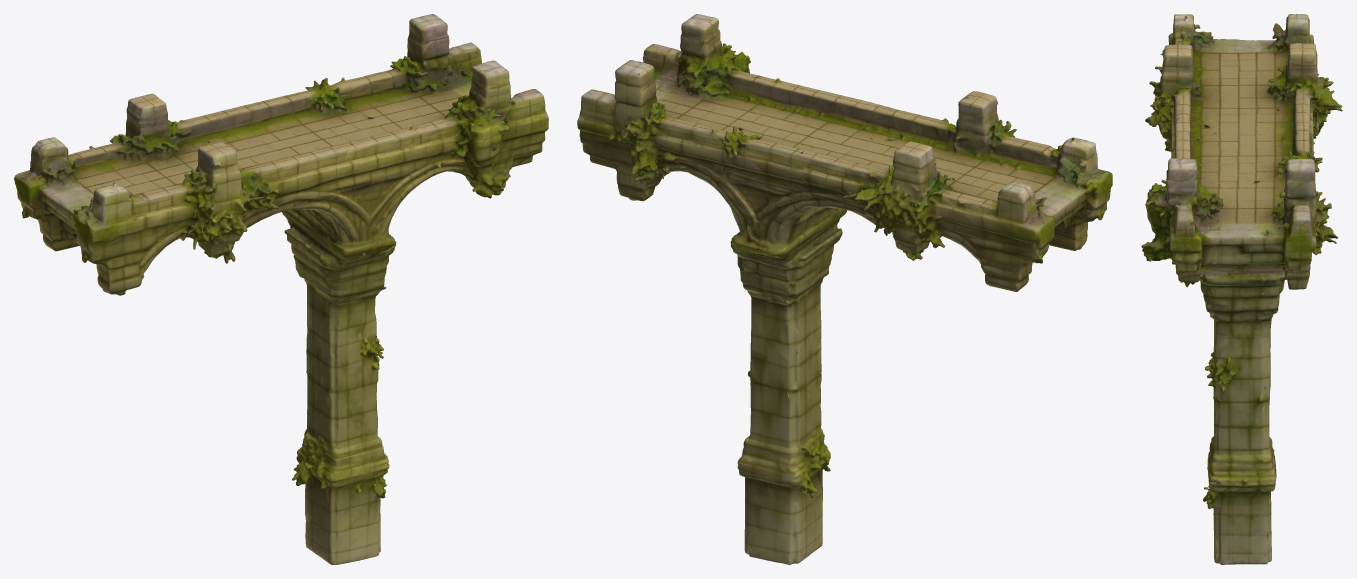
File: bridge_sector_with_pylon_01.glb
3 renders of one model, left to right at view 1: azimuth 30°, elevation 25°; view 2: azimuth 150°, elevation 25°; view 3: azimuth 270°, elevation 25°, orthographic. The views are drawn at different scales.
Visible parts, largest first — view 1: Mesh_0.001; view 2: Mesh_0.001; view 3: Mesh_0.001.
Boxes of the visible parts, x1=… form: Mesh_0.001: x1=14, y1=14, x2=548, y2=564; Mesh_0.001: x1=577, y1=14, x2=1112, y2=564; Mesh_0.001: x1=1141, y1=14, x2=1342, y2=564.
Bounding box in the file's own units: 10.07 × 10 × 4.11.
1 material, 1 textured.
